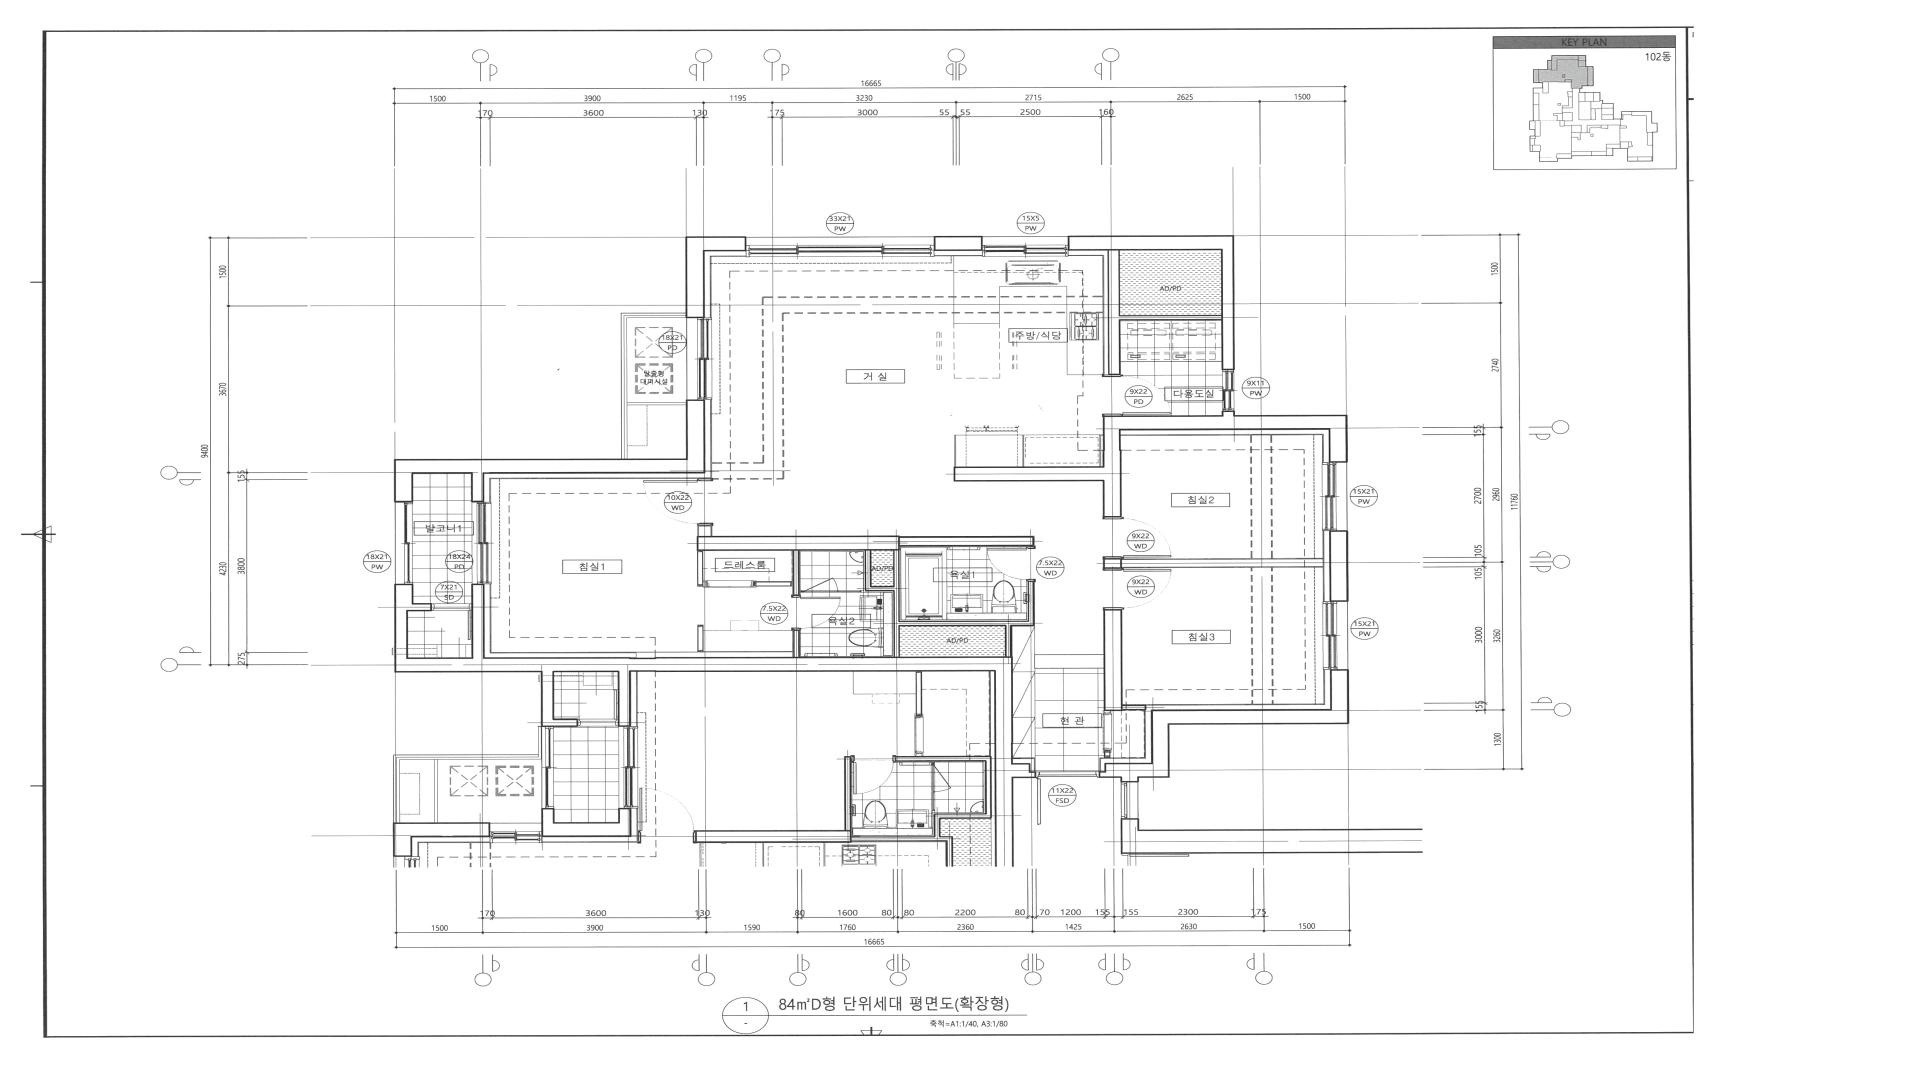door: (1035, 771, 1100, 825), (641, 479, 711, 526), (1102, 517, 1172, 559), (1104, 375, 1174, 417), (1102, 568, 1172, 609), (985, 549, 1034, 583), (791, 596, 840, 630), (431, 603, 471, 641), (800, 578, 839, 592), (703, 580, 756, 588)
wall: (394, 584, 1035, 778), (952, 410, 1348, 516), (393, 400, 705, 501), (1098, 670, 1349, 778), (1068, 235, 1236, 369), (865, 551, 1035, 658), (1108, 251, 1221, 375), (621, 313, 686, 459), (624, 315, 686, 459), (686, 236, 746, 318), (696, 537, 899, 551), (1102, 558, 1324, 567), (1104, 609, 1122, 711), (1329, 530, 1349, 601), (899, 537, 1035, 546), (934, 236, 982, 251), (793, 551, 799, 596), (757, 582, 793, 587), (698, 551, 703, 587), (793, 630, 799, 657), (698, 625, 704, 651), (1122, 704, 1146, 711), (628, 402, 686, 405), (698, 526, 712, 537), (839, 591, 864, 592)
window: (746, 236, 934, 257), (686, 318, 712, 400), (1323, 601, 1349, 670), (982, 236, 1068, 256), (1323, 463, 1348, 530), (471, 501, 491, 584), (394, 501, 413, 584), (1221, 369, 1236, 410)
